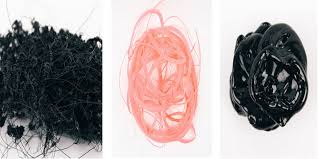fail: (1, 11, 103, 156), (119, 4, 203, 146)
